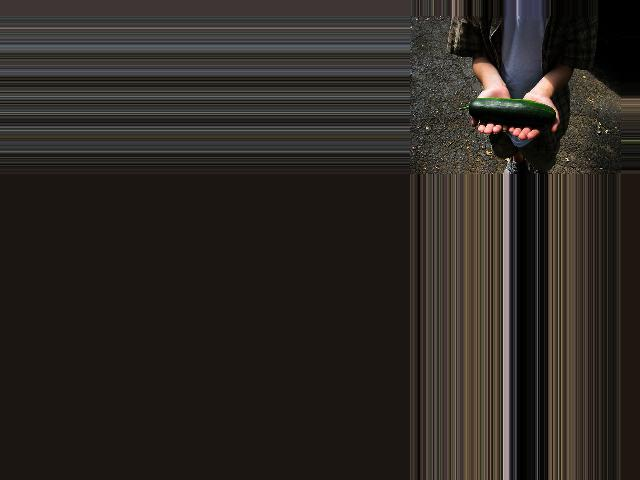cucumber: (457, 98, 554, 126)
